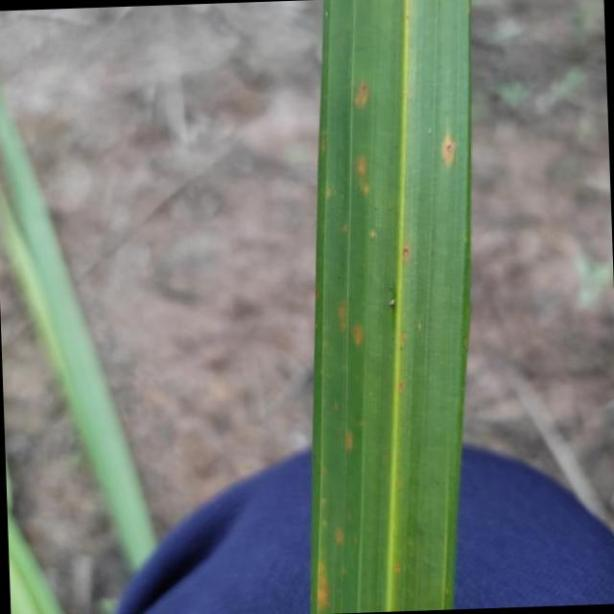Kalium: (310, 0, 475, 614)
